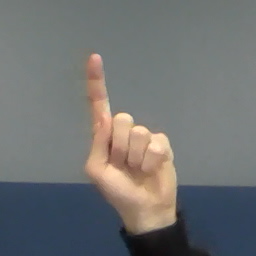F: (74, 51, 186, 211)
